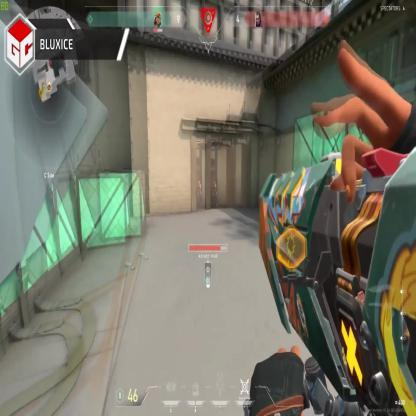enemy: (212, 180, 218, 206)
enemy_head: (213, 181, 216, 185)
